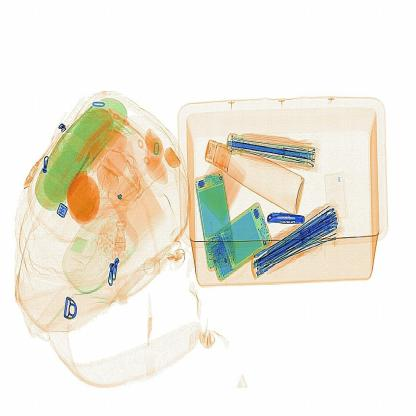knife: (261, 207, 311, 232)
